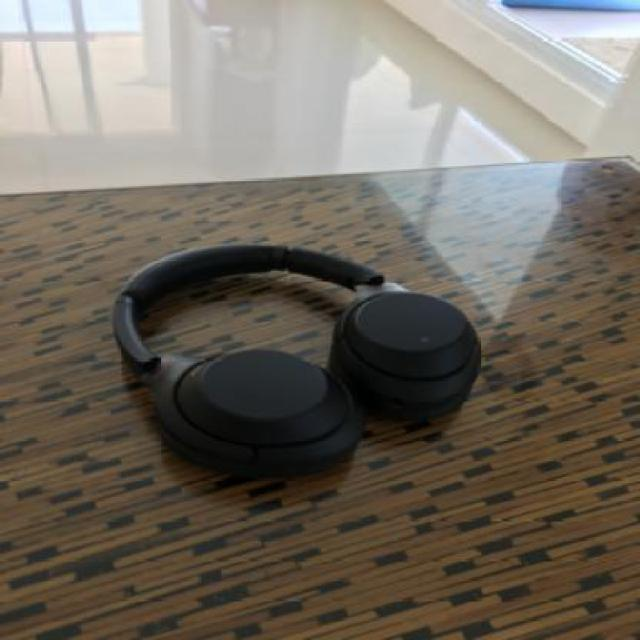earphone: (132, 152, 518, 488)
